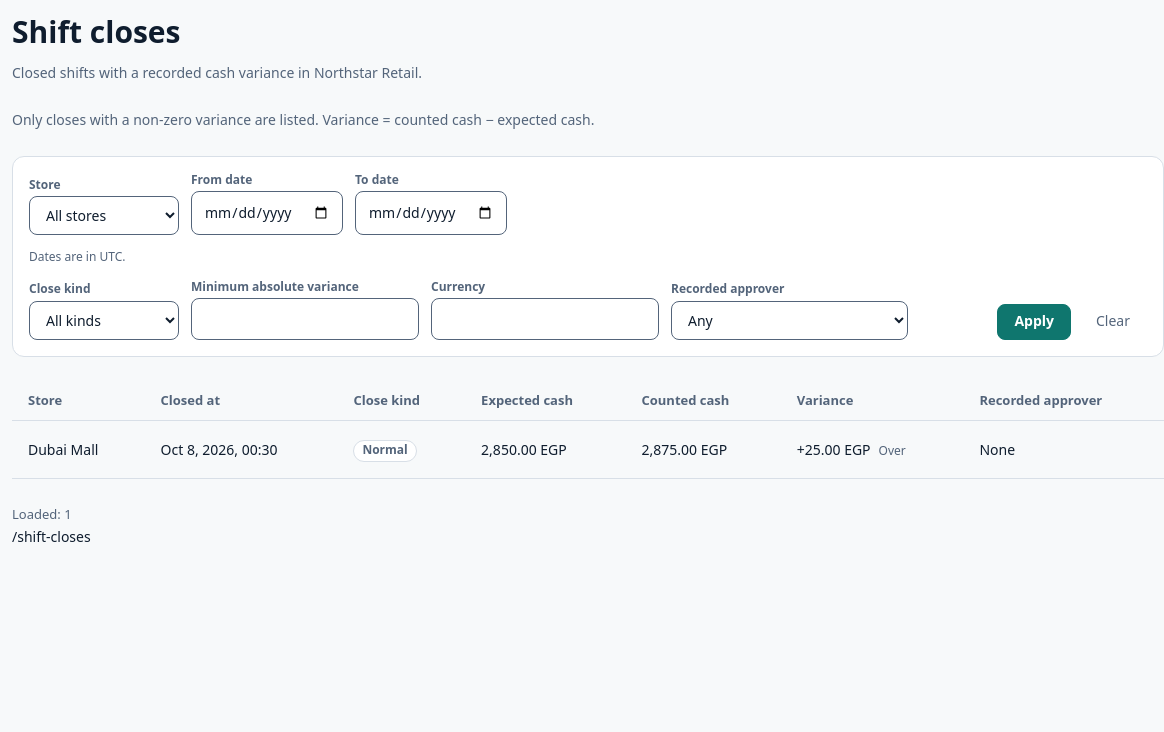
Test: ShiftCloseList (RT-18) › Clear also resets values typed but never applied
In the field labelled "Minimum absolute variance": (305, 319) [191,298,419,340], type "abc"
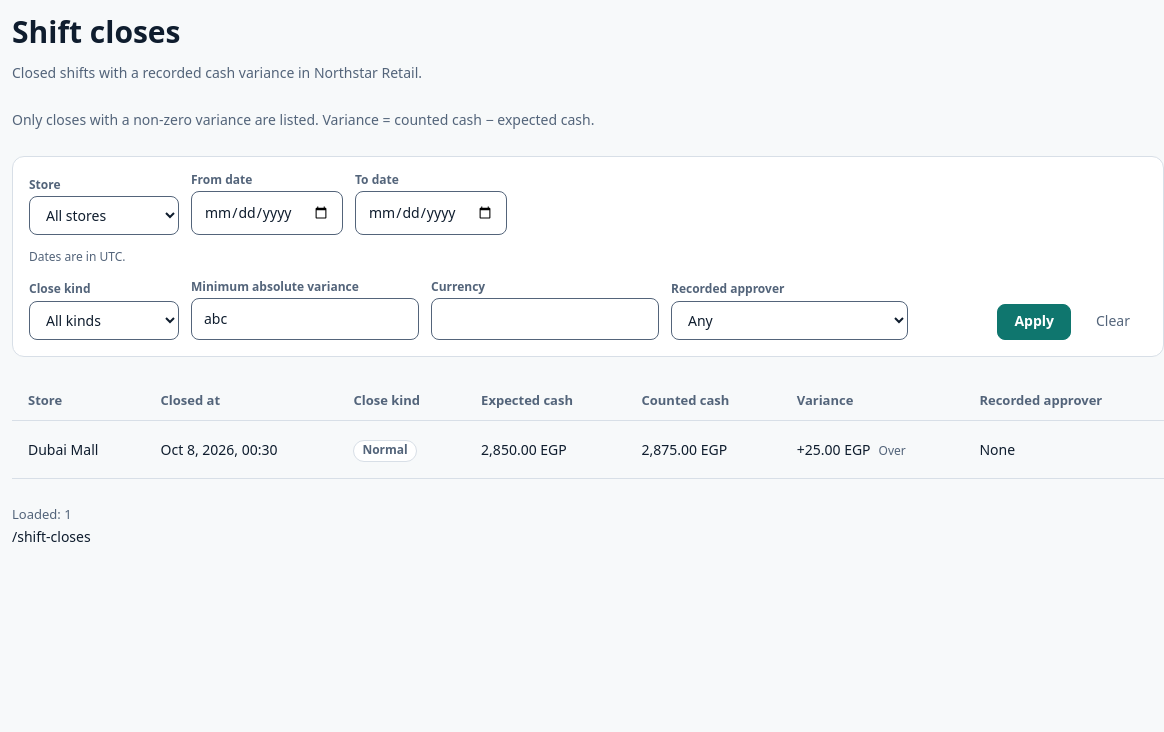
Click the button "Apply": (1034, 322) [997,304,1071,340]
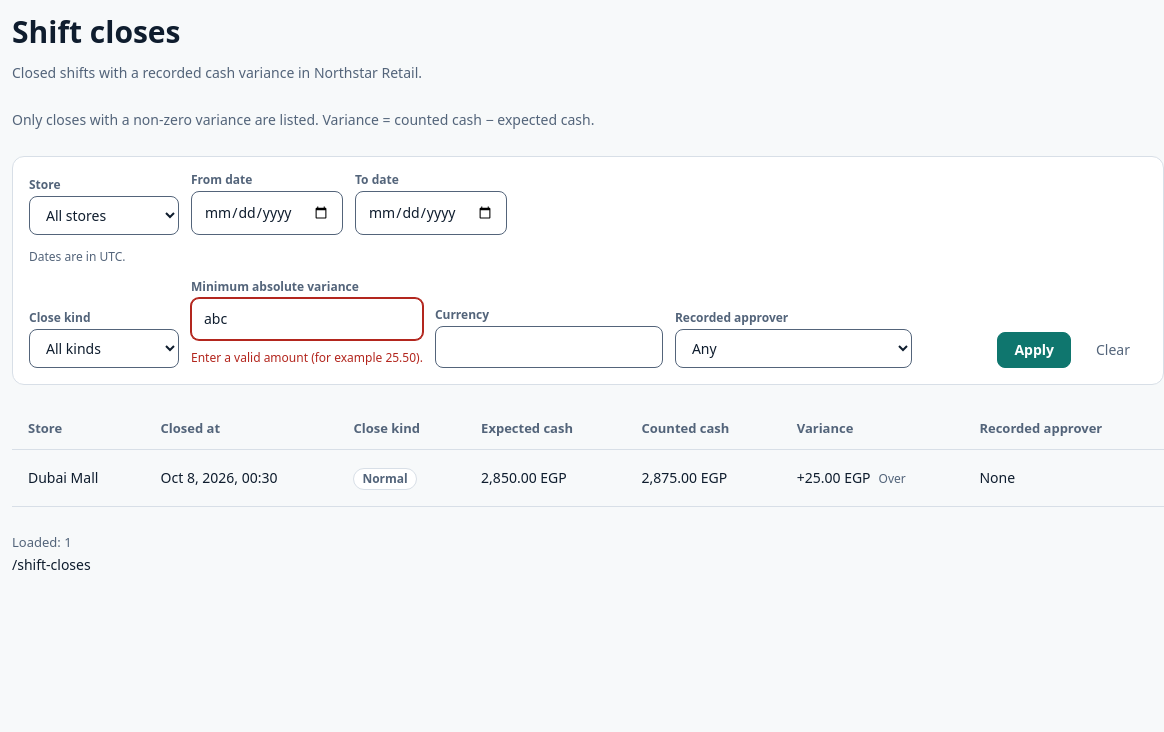
expect the text "Enter a valid amount (for example 25.50)." is shown: met, box [191,348,423,368]
Click the button "Clear": (1113, 350) [1079,332,1147,368]
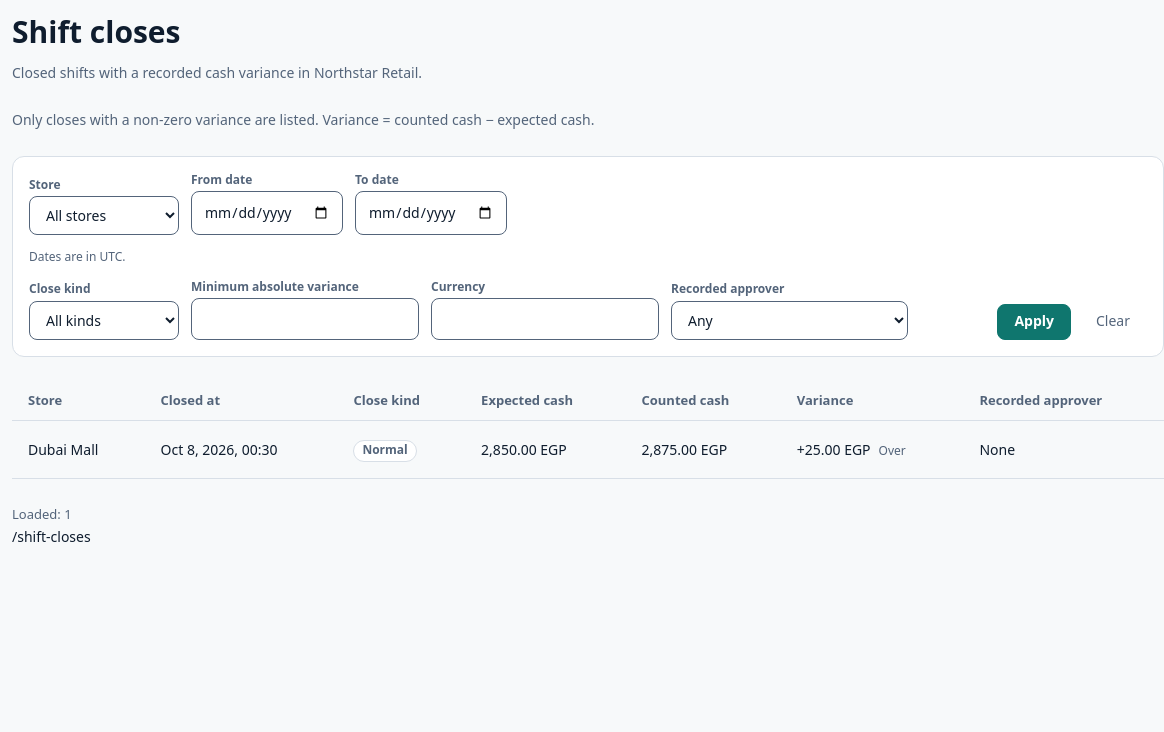
expect the text "Enter a valid amount (for example 25.50)." is gone: met
expect the field labelled "Minimum absolute variance" is empty: met, box [191,298,419,340]
